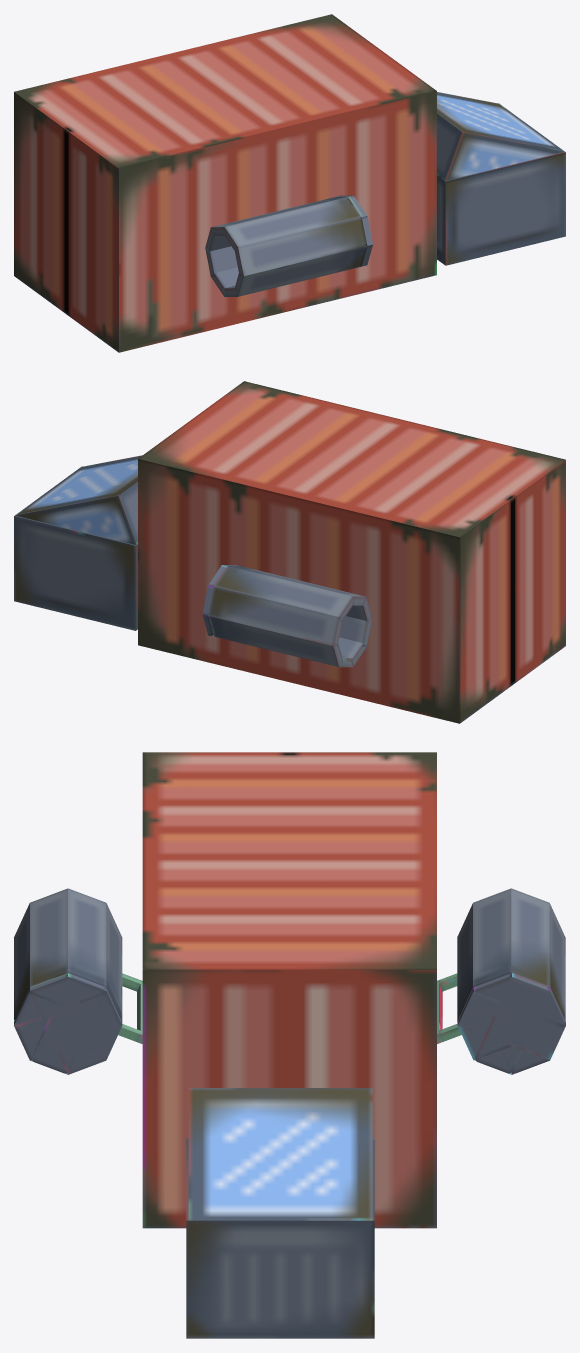
3 renders of one model, top to bottom at view 1: azimuth 30°, elevation 25°; view 2: azimuth 150°, elevation 25°; view 3: azimuth 270°, elevation 25°, orthographic. The views are drawn at different scales.
Visible parts, largest first — view 1: cube, octagon; view 2: cube, octagon; view 3: cube, octagon.
Part boxes in pixels (x1,y1,x2,y2): cube: [14, 14, 565, 352]; octagon: [205, 195, 372, 296]; cube: [14, 381, 565, 723]; octagon: [202, 565, 372, 667]; cube: [118, 752, 461, 1338]; octagon: [14, 888, 565, 1074].
Size of the model in its own units: 5.09 by 2.12 by 3.75.
Materials: 1 (1 with a texture image).
